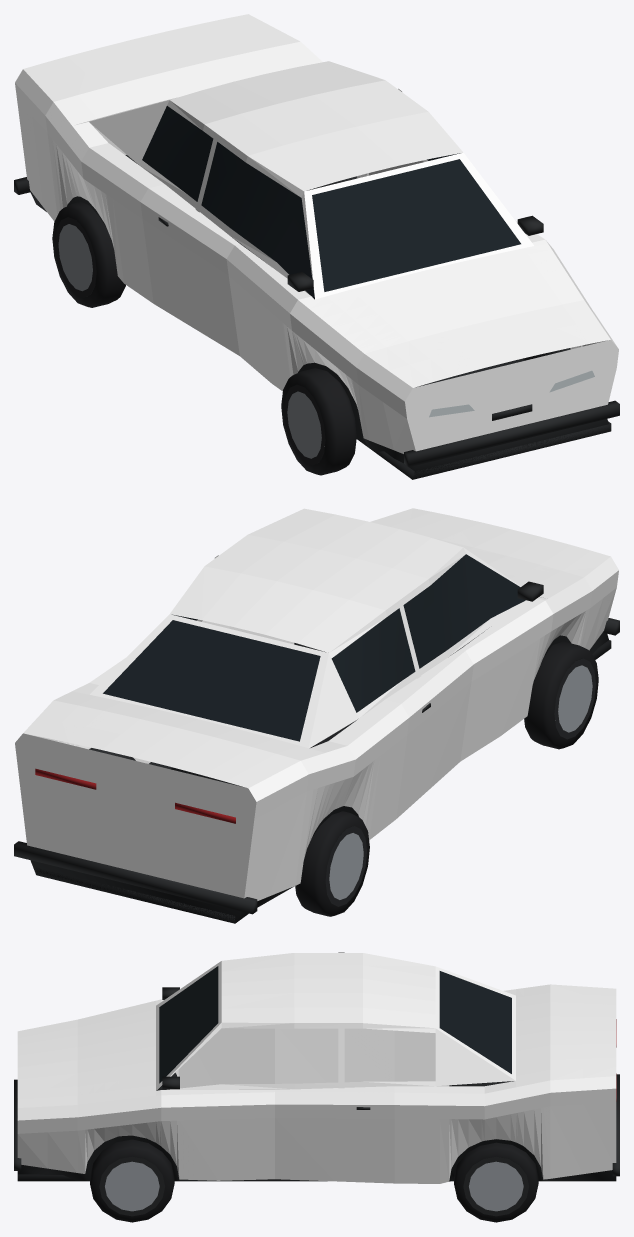
Rendered from bancroft_oficina.glb.
The picture shows the model from 3 angles, top to bottom: view 1: azimuth 30°, elevation 25°; view 2: azimuth 150°, elevation 25°; view 3: azimuth 270°, elevation 25°; orthographic projection. The views are drawn at different scales.
Parts seen in each view (by area): view 1: Body_Paint, Body_Details, Mount_FrontLeft_Wheel_Details, Mount_RearLeft_Wheel_Details; view 2: Body_Paint, Body_Details, Mount_FrontLeft_Wheel_Details, Mount_RearLeft_Wheel_Details; view 3: Body_Paint, Body_Details, Mount_FrontRight_Wheel_Details, Mount_RearRight_Wheel_Details.
Boxes of the visible parts, left/top/right/bottom form: Body_Paint: left=15, top=14, right=618, bottom=453; Body_Details: left=14, top=106, right=619, bottom=479; Mount_FrontLeft_Wheel_Details: left=281, top=368, right=356, bottom=475; Mount_RearLeft_Wheel_Details: left=52, top=202, right=125, bottom=307; Body_Paint: left=15, top=508, right=618, bottom=900; Body_Details: left=14, top=554, right=619, bottom=923; Mount_FrontLeft_Wheel_Details: left=524, top=641, right=598, bottom=749; Mount_RearLeft_Wheel_Details: left=295, top=811, right=369, bottom=916; Body_Paint: left=17, top=952, right=616, bottom=1183; Body_Details: left=14, top=966, right=619, bottom=1181; Mount_FrontRight_Wheel_Details: left=90, top=1139, right=174, bottom=1222; Mount_RearRight_Wheel_Details: left=454, top=1142, right=538, bottom=1222.
Size of the model in its own units: 1.85 by 1.51 by 4.45.
Materials: 2 (1 with a texture image).
